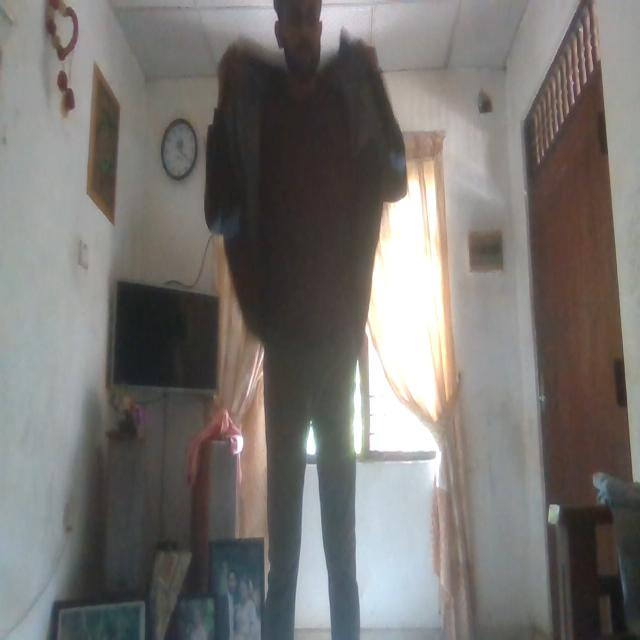Jacket_Wearer: (204, 36, 408, 362)
Person: (216, 0, 402, 640)
